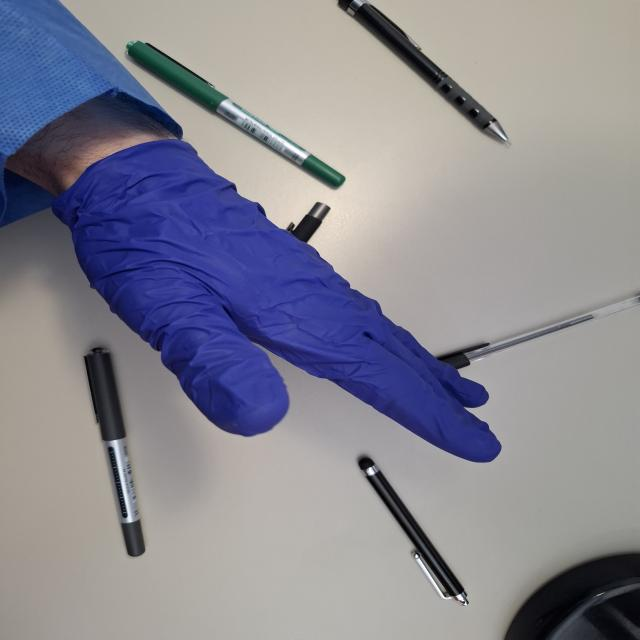glove_on: (42, 134, 506, 468)
